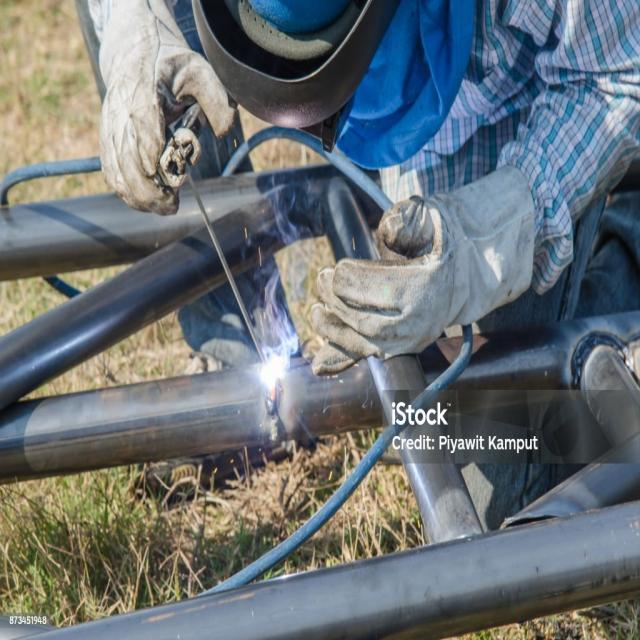welding: (263, 354, 282, 383)
